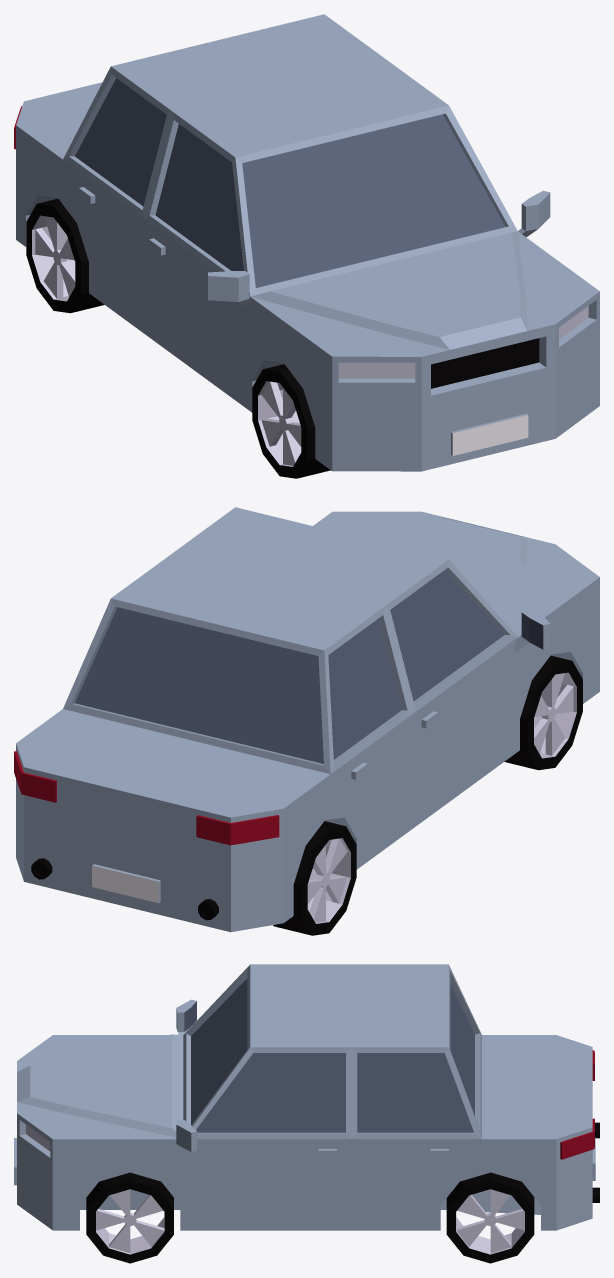
File: Sedan.gltf
The picture shows the model from 3 angles, top to bottom: view 1: azimuth 30°, elevation 25°; view 2: azimuth 150°, elevation 25°; view 3: azimuth 270°, elevation 25°; orthographic projection. The views are drawn at different scales.
Parts seen in each view (by area): view 1: Sedan, Sedan wheel front right, Sedan wheel rear right; view 2: Sedan, Sedan wheel rear right, Sedan wheel front right; view 3: Sedan, Sedan wheel rear left, Sedan wheel front left.
Part boxes in pixels (x1,y1,x2,y2): Sedan: [14, 14, 599, 471]; Sedan wheel front right: [252, 364, 330, 478]; Sedan wheel rear right: [26, 198, 104, 313]; Sedan: [14, 507, 599, 932]; Sedan wheel rear right: [273, 821, 356, 935]; Sedan wheel front right: [504, 655, 582, 770]; Sedan: [14, 964, 599, 1230]; Sedan wheel rear left: [446, 1172, 534, 1263]; Sedan wheel front left: [86, 1172, 173, 1263].
Bounding box in the file's own units: 2.81 × 2.01 × 5.23.
